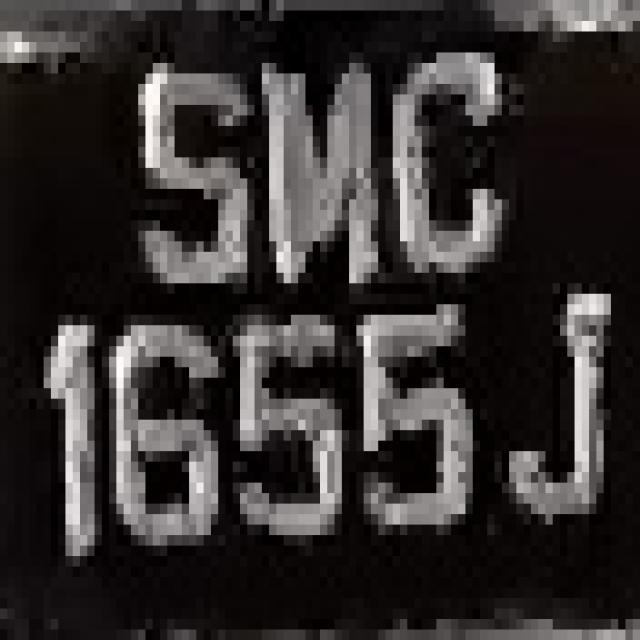1: (22, 252, 116, 619)
5: (349, 273, 473, 577), (225, 283, 342, 556)
6: (94, 294, 226, 588)
C: (378, 21, 516, 294)
J: (473, 304, 611, 535)
M: (255, 52, 407, 315)
S: (109, 21, 255, 304)
